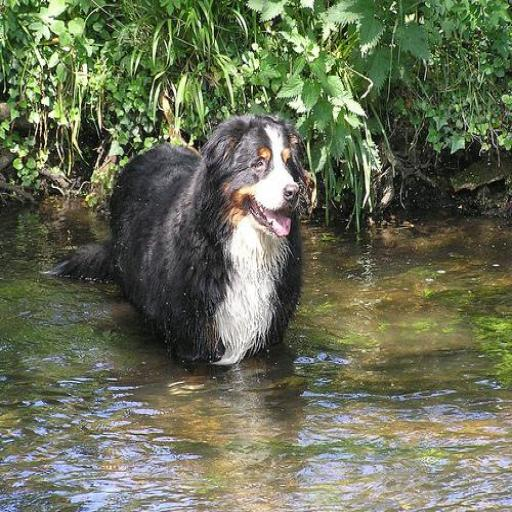dog_face: (201, 115, 314, 240)
